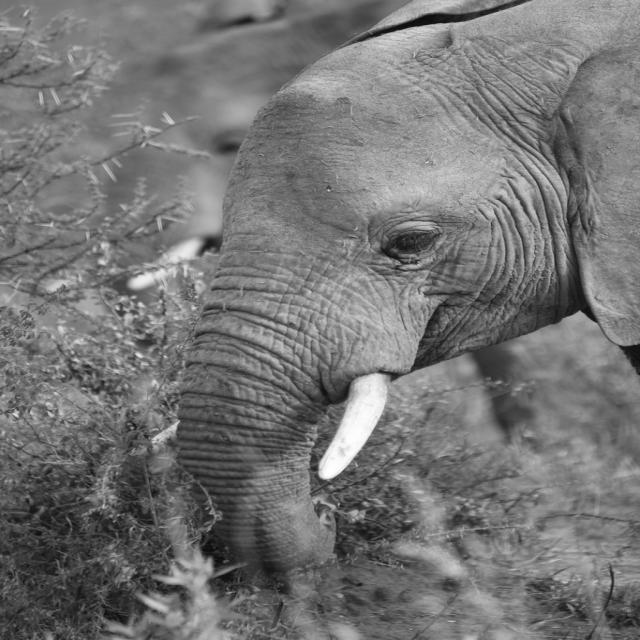elephant: (142, 1, 608, 611)
